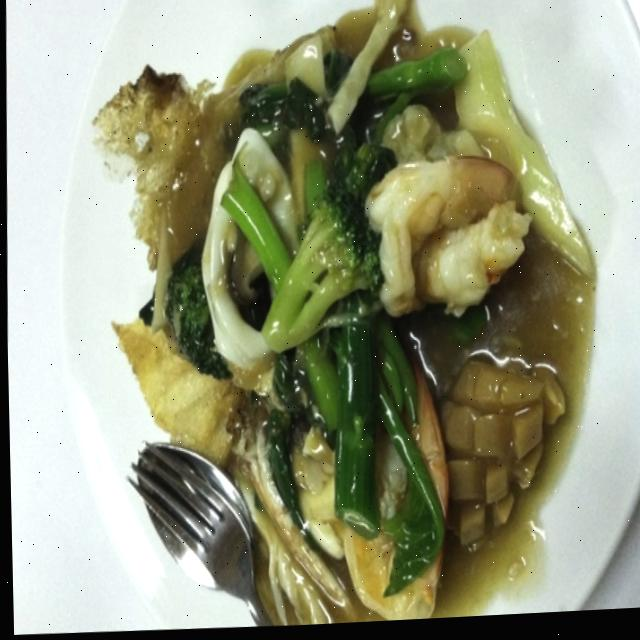面条主食: (36, 9, 596, 639)
